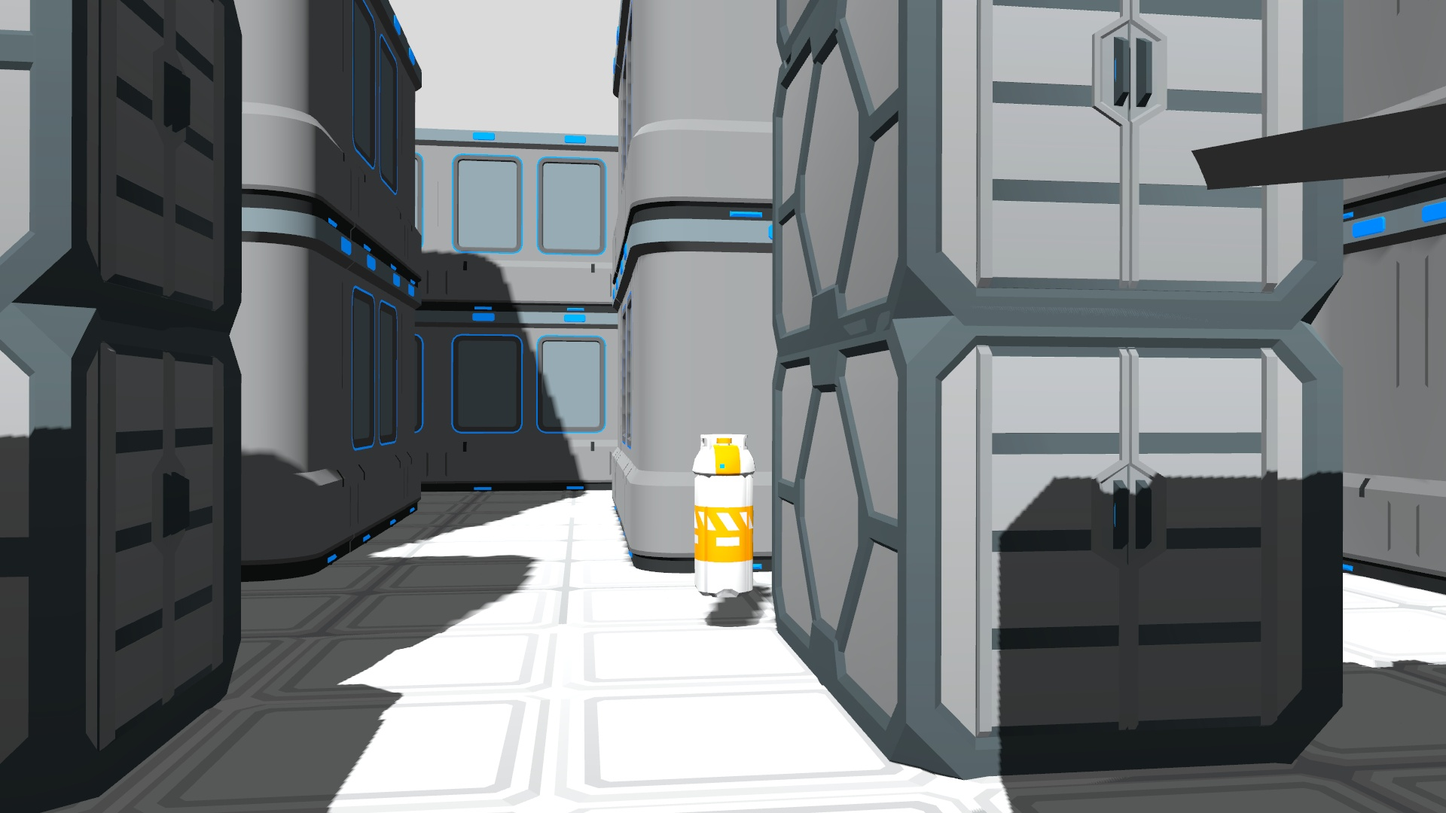yellow_barrel: (691, 427, 759, 596)
